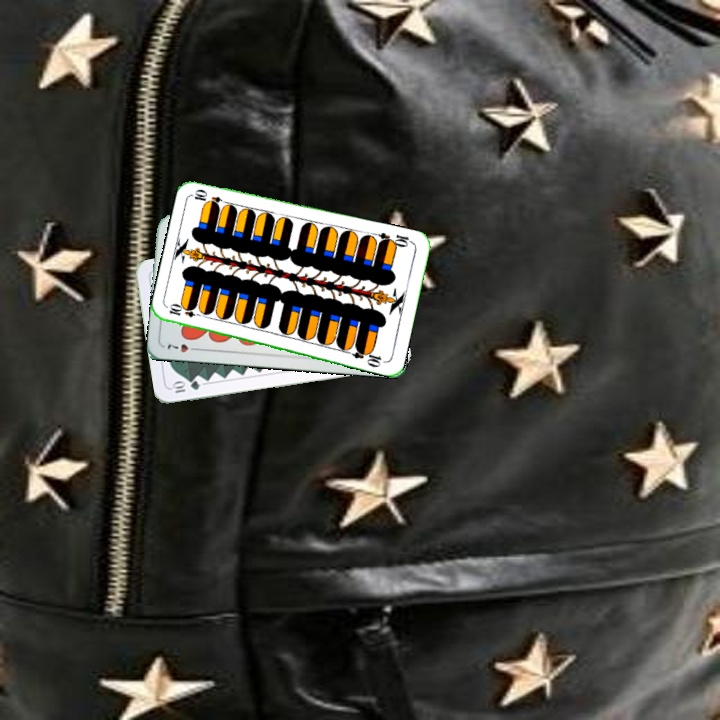E10: (375, 228, 415, 250), (165, 302, 206, 320)
G10: (168, 377, 202, 396)
H7: (163, 338, 202, 355)
